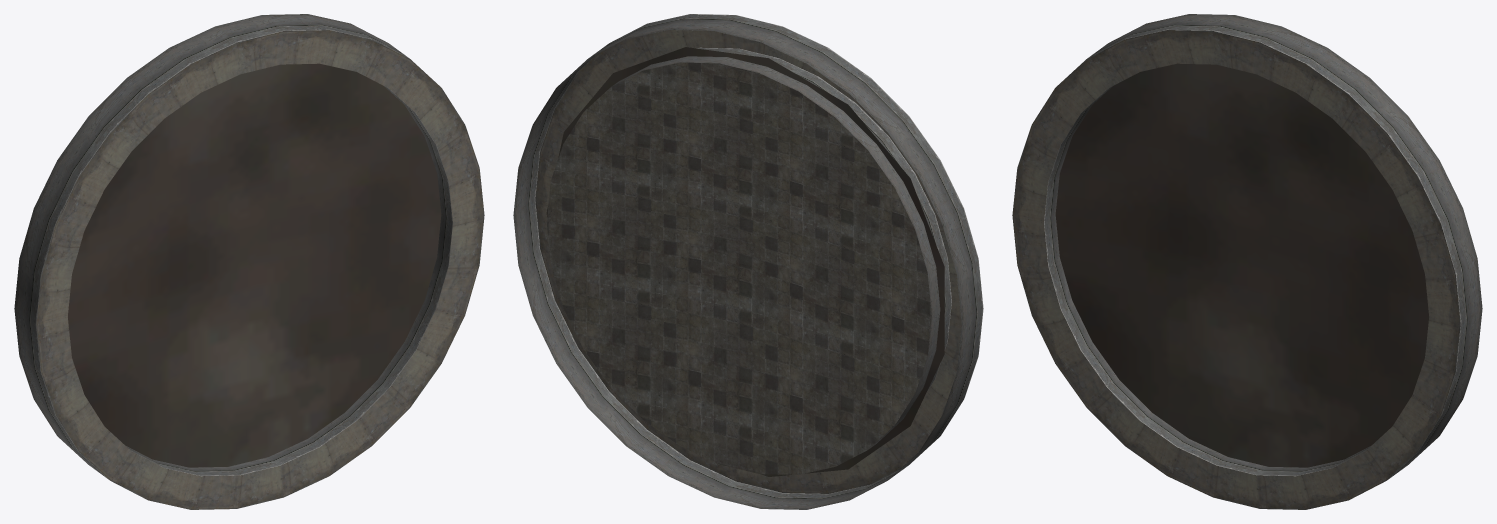
File: p6_geo_fountain_base_LOD0.obj
The picture shows the model from 3 angles, left to right: view 1: azimuth 30°, elevation 25°; view 2: azimuth 150°, elevation 25°; view 3: azimuth 330°, elevation 25°; orthographic projection.
Visible parts, largest first — view 1: decal_grunge_water_puddle01, concrete_panel03_la2, metal_trim_edge_black; view 2: ceramic_floor_tile_stone_la2, metal_trim_edge_black, concrete_panel03_la2, decal_grunge_water_puddle01; view 3: decal_grunge_water_puddle01, concrete_panel03_la2, metal_trim_edge_black.
Part boxes in pixels (box(x1,y1,x2,y2)): decal_grunge_water_puddle01: box(68, 63, 441, 467); concrete_panel03_la2: box(36, 30, 484, 509); metal_trim_edge_black: box(14, 14, 452, 479); ceramic_floor_tile_stone_la2: box(546, 62, 931, 474); metal_trim_edge_black: box(513, 14, 983, 509); concrete_panel03_la2: box(535, 30, 961, 493); decal_grunge_water_puddle01: box(546, 47, 944, 476); decal_grunge_water_puddle01: box(1055, 63, 1428, 467); concrete_panel03_la2: box(1012, 30, 1460, 509); metal_trim_edge_black: box(1044, 14, 1482, 479).
Size of the model in its own units: 1321 by 1314 by 111.
